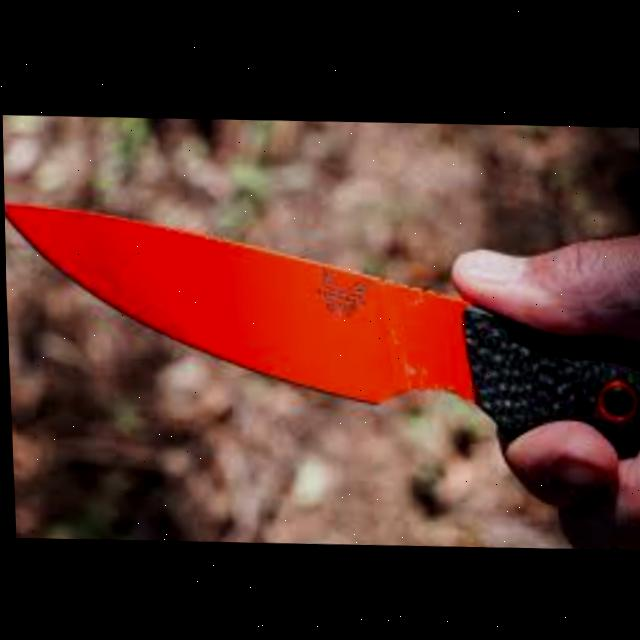Knife: (3, 184, 640, 465)
